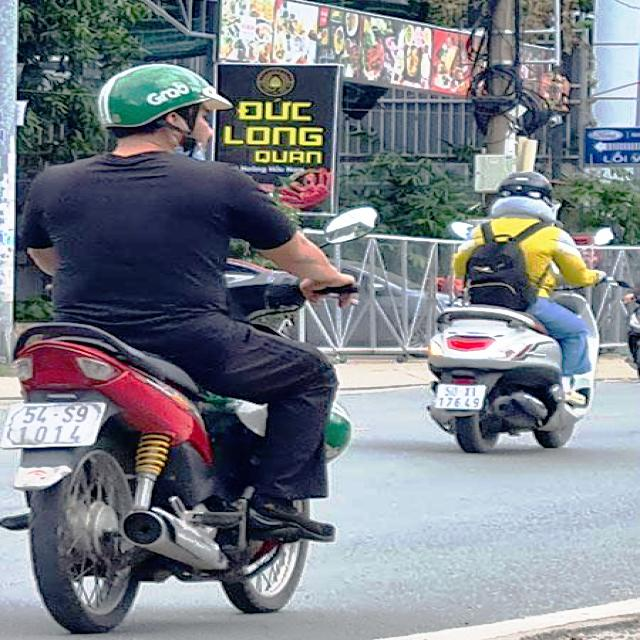license_plate: (4, 402, 104, 448), (435, 385, 487, 410)
